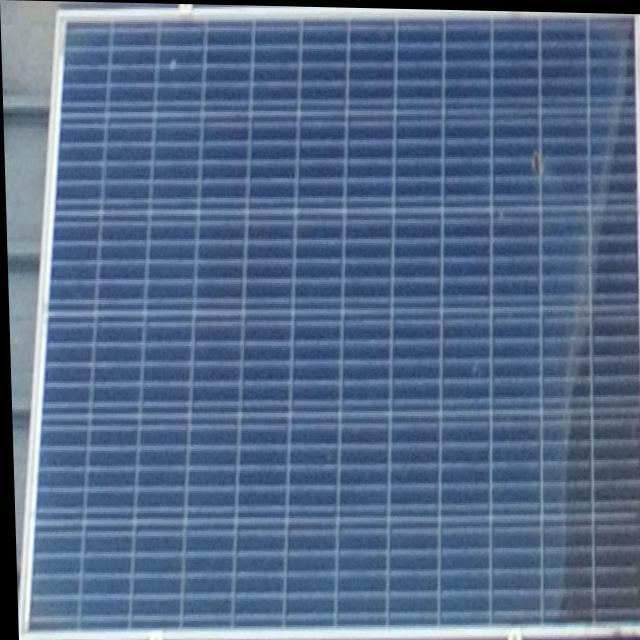Surface Contaminant: (555, 18, 638, 626)
